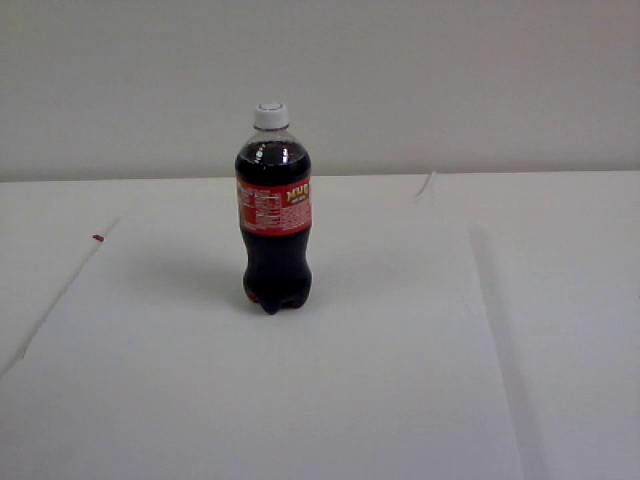botolplastik: (236, 102, 311, 313)
